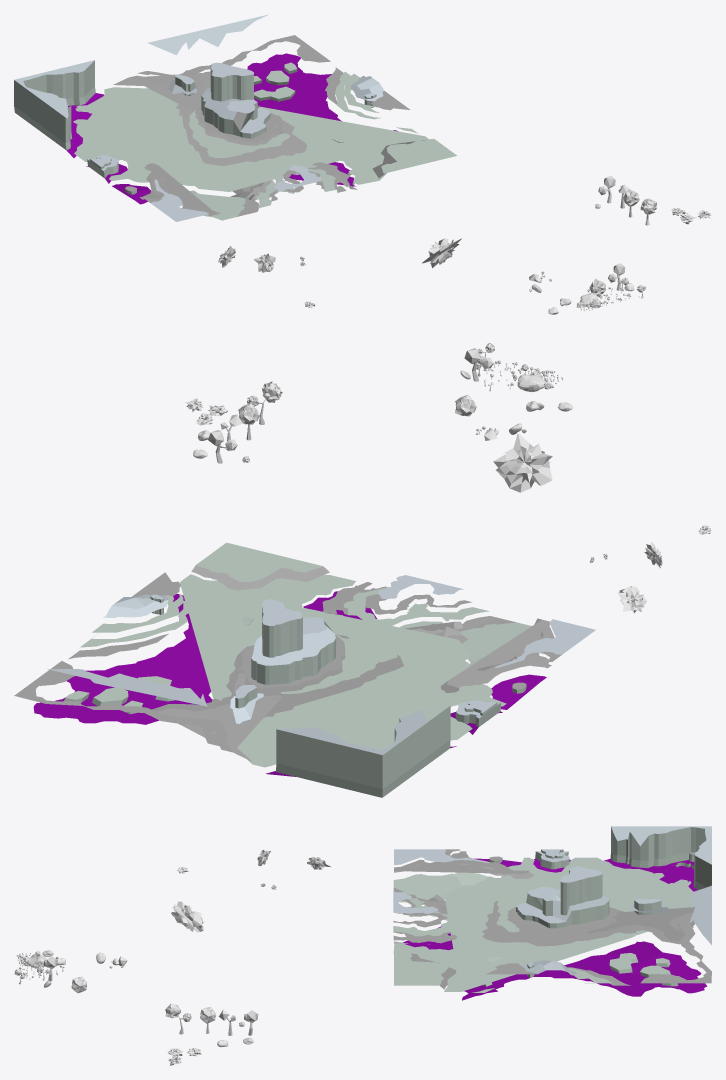
File: worldtestfbx.fbx
3 views of the same model, one above another, from view 1: azimuth 30°, elevation 25°; view 2: azimuth 150°, elevation 25°; view 3: azimuth 270°, elevation 25° (orthographic). The views are drawn at different scales.
Visible parts, largest first — view 1: maps:maps:polySurface17, maps:maps:polySurface4, maps:maps:polySurface15, maps:maps:polySurface14, rock4.001; view 2: maps:maps:polySurface17, maps:maps:polySurface4, rock4.001, maps:maps:polySurface14, maps:maps:polySurface15; view 3: maps:maps:polySurface17, maps:maps:polySurface4, maps:maps:polySurface14, maps:maps:polySurface15, rock4.001.
Boxes of the visible parts, bbox=[...] form: maps:maps:polySurface17: bbox=[14, 14, 456, 221]; maps:maps:polySurface4: bbox=[14, 60, 95, 150]; maps:maps:polySurface15: bbox=[210, 65, 253, 101]; maps:maps:polySurface14: bbox=[201, 96, 270, 138]; rock4.001: bbox=[422, 238, 461, 268]; maps:maps:polySurface17: bbox=[14, 542, 595, 776]; maps:maps:polySurface4: bbox=[276, 706, 450, 797]; rock4.001: bbox=[493, 433, 552, 492]; maps:maps:polySurface14: bbox=[251, 638, 336, 684]; maps:maps:polySurface15: bbox=[262, 607, 302, 657]; maps:maps:polySurface17: bbox=[393, 826, 711, 1000]; maps:maps:polySurface4: bbox=[610, 826, 711, 889]; maps:maps:polySurface14: bbox=[516, 893, 609, 928]; maps:maps:polySurface15: bbox=[560, 870, 602, 915]; rock4.001: bbox=[171, 901, 203, 932].
Bounding box in the file's own units: 47.69 × 7.05 × 69.64.
